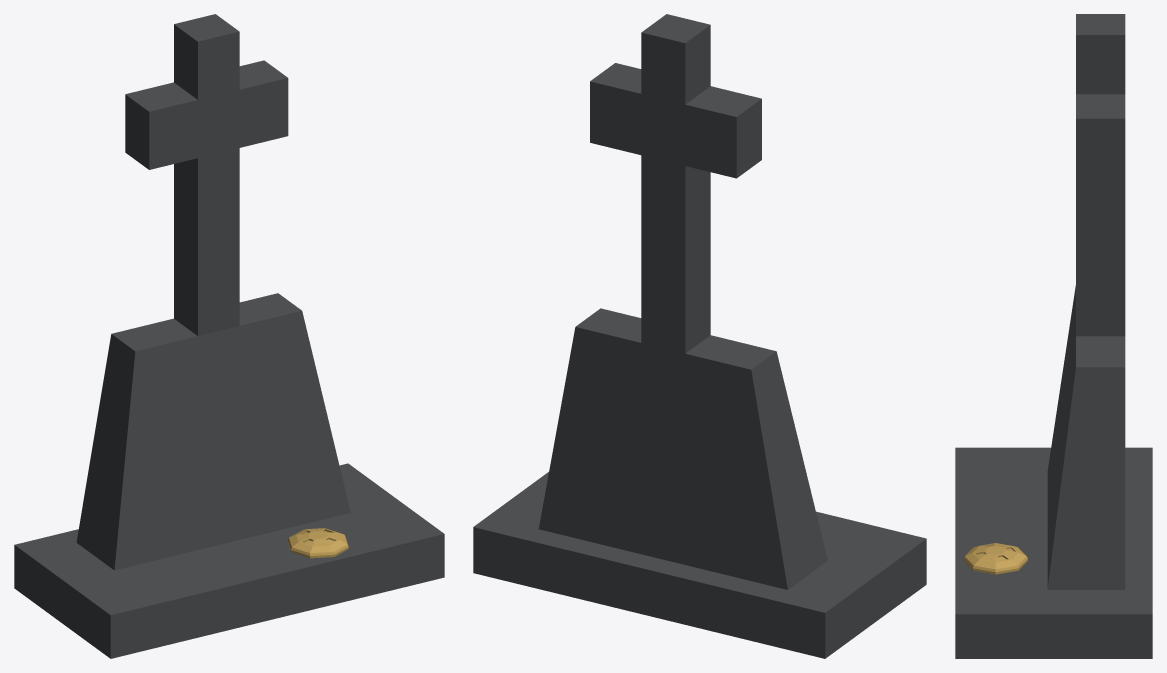
The model's file is NEW586_cross_memorial_LOD2.glb.
3 views of the same model, side by side, from view 1: azimuth 30°, elevation 25°; view 2: azimuth 150°, elevation 25°; view 3: azimuth 270°, elevation 25° (orthographic). The views are drawn at different scales.
Parts seen in each view (by area): view 1: Splayed inscription die, Broad rectangular plinth, Coherent Latin cross, Single flower grille cap; view 2: Splayed inscription die, Broad rectangular plinth, Coherent Latin cross; view 3: Broad rectangular plinth, Splayed inscription die, Coherent Latin cross, Single flower grille cap.
Part boxes in pixels (bbox=[...]): Splayed inscription die: bbox=[76, 293, 350, 570]; Broad rectangular plinth: bbox=[14, 463, 444, 658]; Coherent Latin cross: bbox=[125, 14, 288, 335]; Single flower grille cap: bbox=[287, 528, 348, 558]; Splayed inscription die: bbox=[538, 308, 827, 589]; Broad rectangular plinth: bbox=[473, 472, 926, 658]; Coherent Latin cross: bbox=[590, 14, 761, 353]; Broad rectangular plinth: bbox=[955, 447, 1152, 658]; Splayed inscription die: bbox=[1047, 285, 1125, 589]; Coherent Latin cross: bbox=[1076, 14, 1125, 336]; Single flower grille cap: bbox=[963, 543, 1027, 574].
Size of the model in its own units: 0.6096 by 0.9398 by 0.3048.
